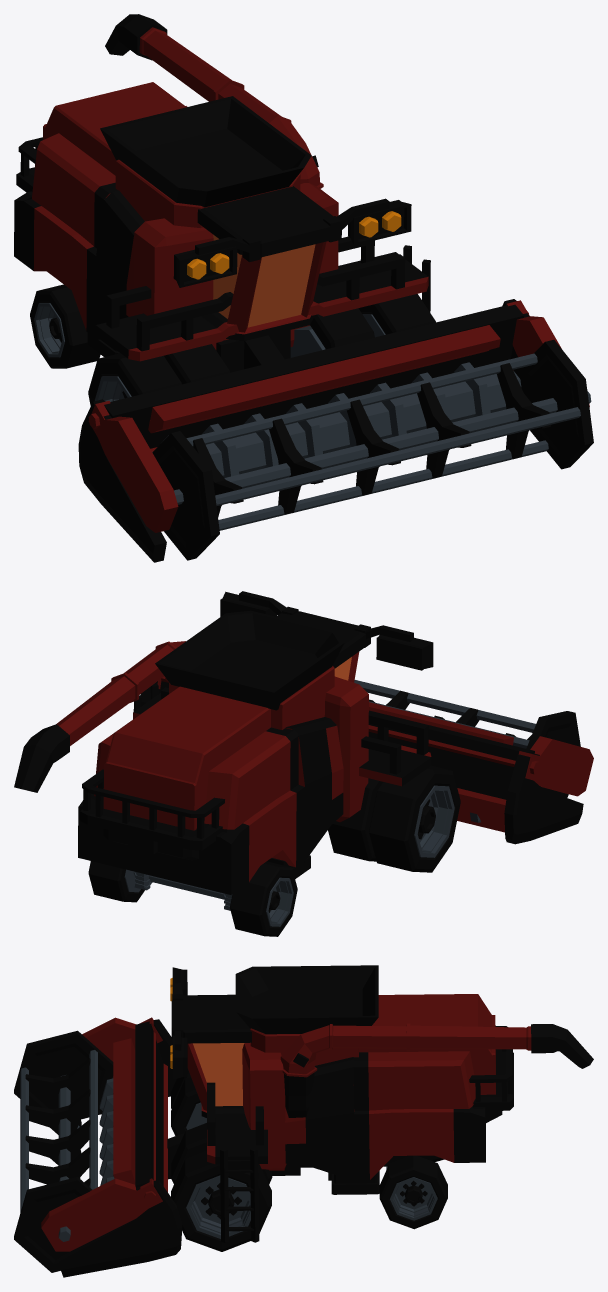
The model's file is Harvester2.fbx.
3 views of the same model, one above another, from view 1: azimuth 30°, elevation 25°; view 2: azimuth 150°, elevation 25°; view 3: azimuth 270°, elevation 25° (orthographic). The views are drawn at different scales.
Visible parts, largest first — view 1: Cube.026, Object001; view 2: Cube.026, Object001; view 3: Cube.026, Object001.
Part boxes in pixels (bbox=[...]): Cube.026: bbox=[14, 14, 589, 562]; Object001: bbox=[152, 339, 593, 560]; Cube.026: bbox=[14, 591, 593, 936]; Object001: bbox=[354, 680, 580, 797]; Cube.026: bbox=[41, 965, 593, 1277]; Object001: bbox=[14, 1030, 113, 1272].
Bounding box in the file's own units: 5171 × 2857 × 7339.
